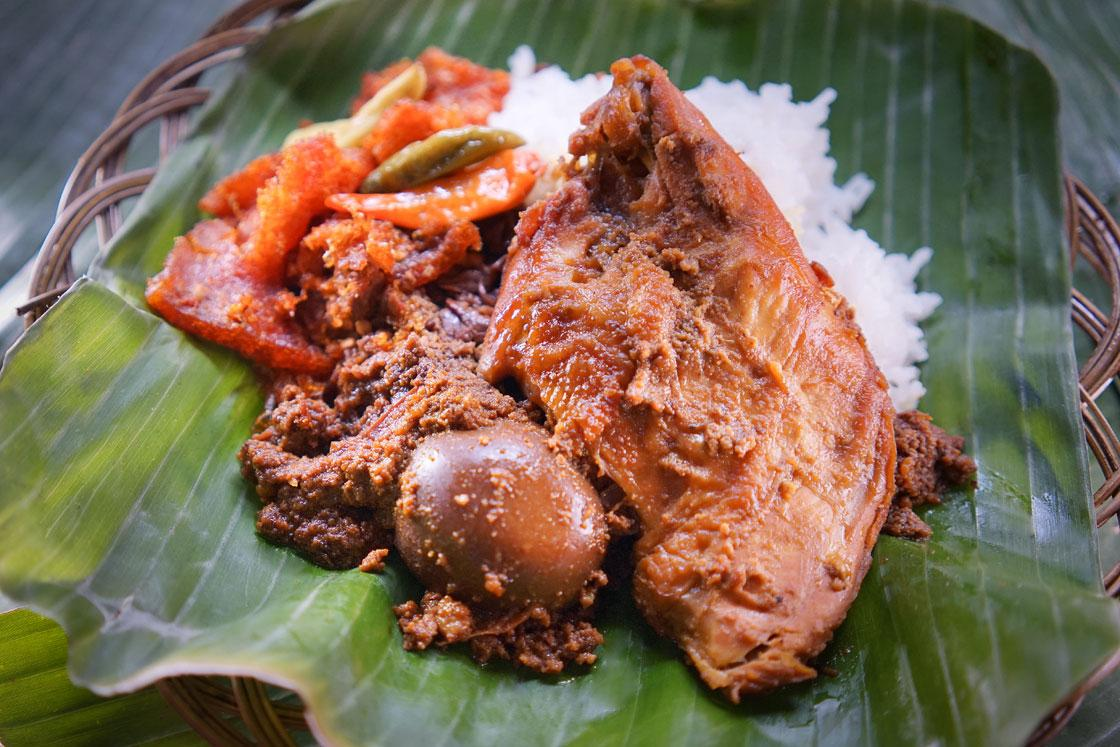gudeg: (146, 44, 975, 705)
